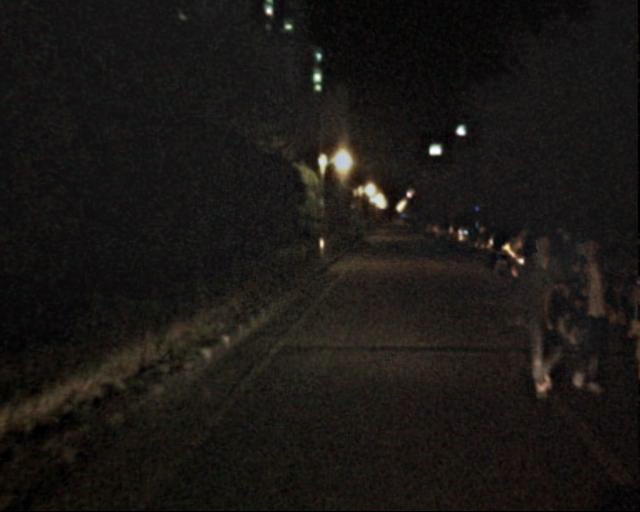person: (502, 233, 578, 401), (551, 236, 625, 394), (547, 226, 585, 318)
